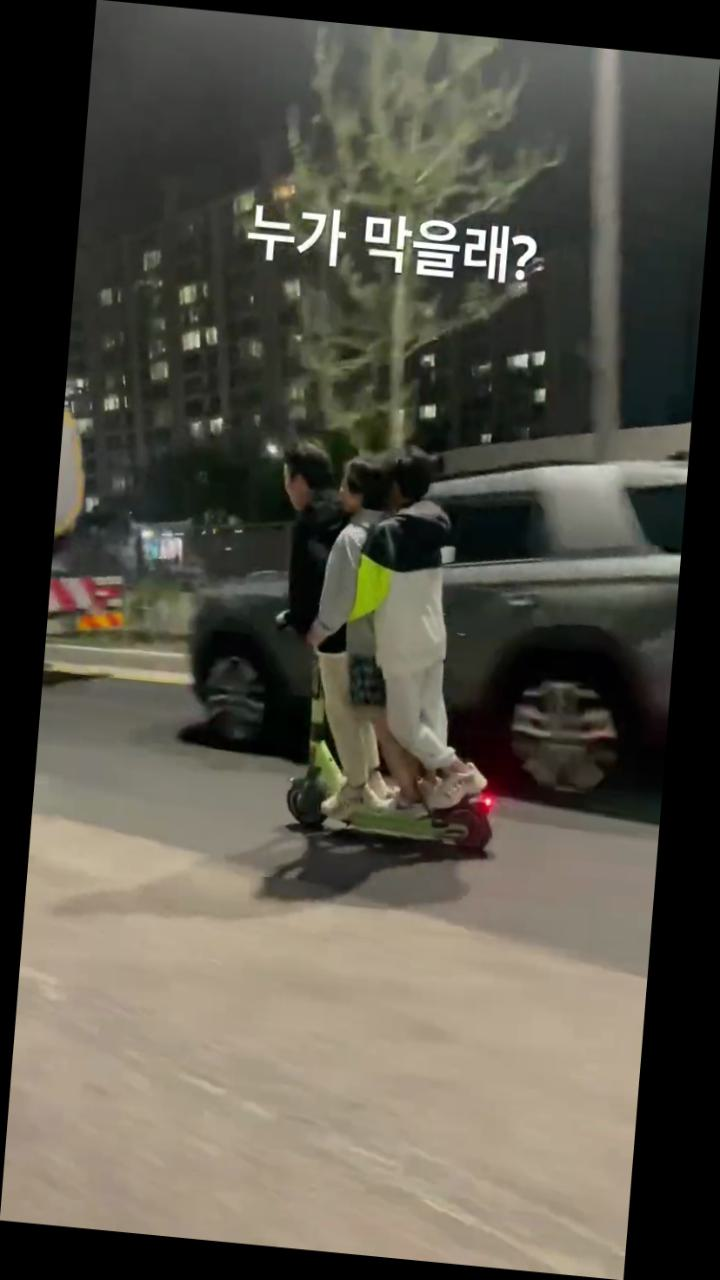multiple: (235, 430, 533, 870)
